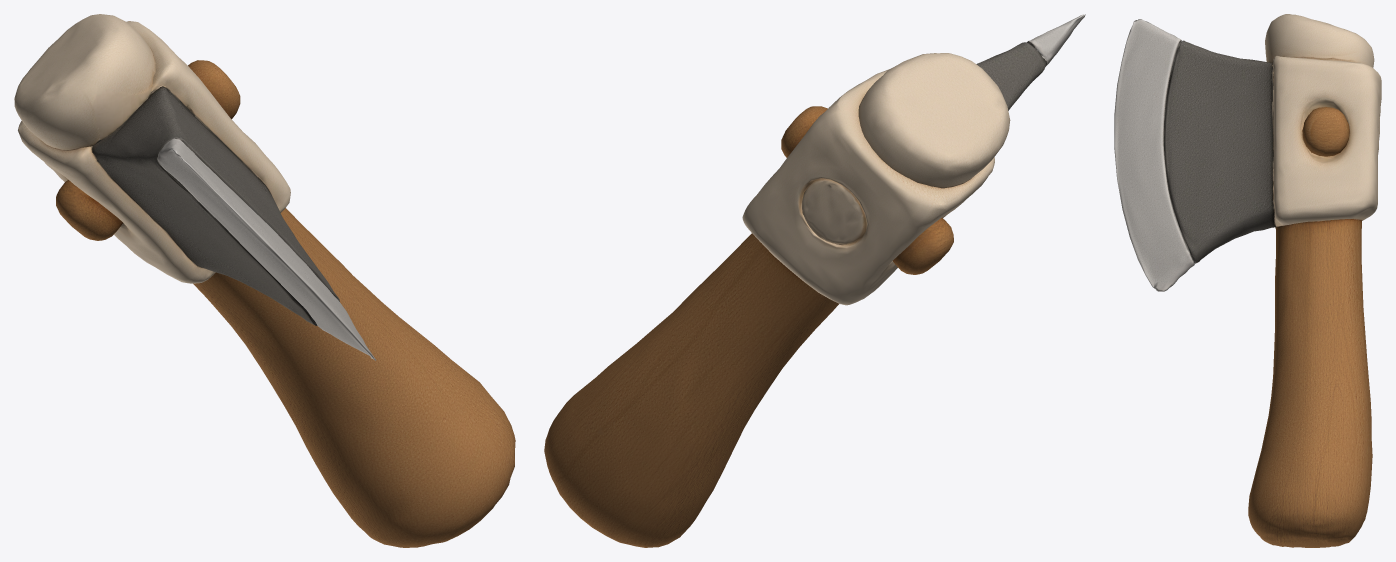
Rendered from axe_mem.fbx.
3 views of the same model, side by side, from view 1: azimuth 30°, elevation 25°; view 2: azimuth 150°, elevation 25°; view 3: azimuth 270°, elevation 25° (orthographic). The views are drawn at different scales.
Parts seen in each view (by area): view 1: tripo_node_d7c81d76; view 2: tripo_node_d7c81d76; view 3: tripo_node_d7c81d76.
Boxes of the visible parts, x1,y1,x2,y2 form: tripo_node_d7c81d76: (14,14,515,547); tripo_node_d7c81d76: (544,14,1085,547); tripo_node_d7c81d76: (1114,14,1381,547).
Bounding box in the file's own units: 0.8535 × 0.998 × 0.5723.
